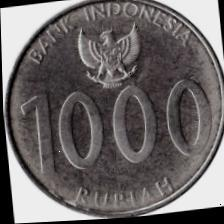coin_1000_e2010: (3, 0, 224, 224)
